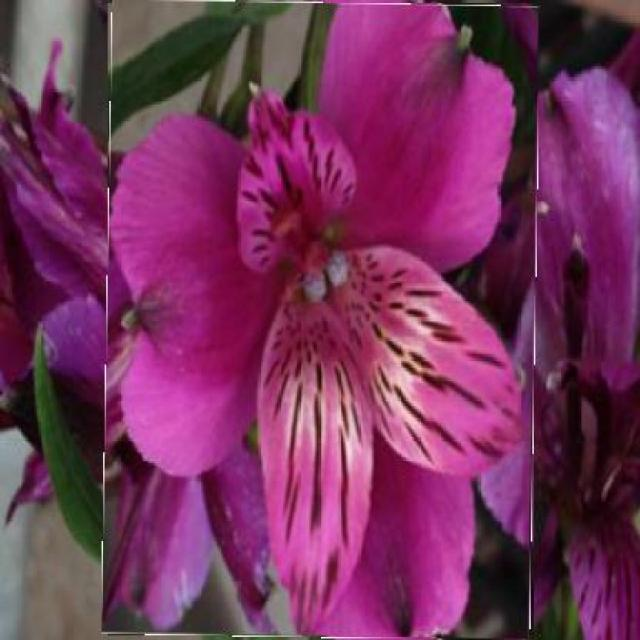Flower: (105, 2, 539, 639)
